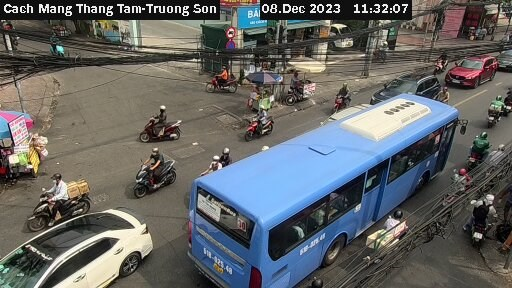bus: (186, 92, 460, 286)
car: (1, 205, 154, 285), (444, 47, 500, 90), (491, 44, 512, 72)
motorbike: (12, 178, 102, 217), (449, 197, 505, 256), (118, 151, 186, 192), (368, 206, 414, 263), (132, 105, 193, 143), (226, 108, 289, 138), (464, 133, 496, 178), (484, 93, 510, 133), (323, 84, 353, 109), (429, 49, 453, 71)
